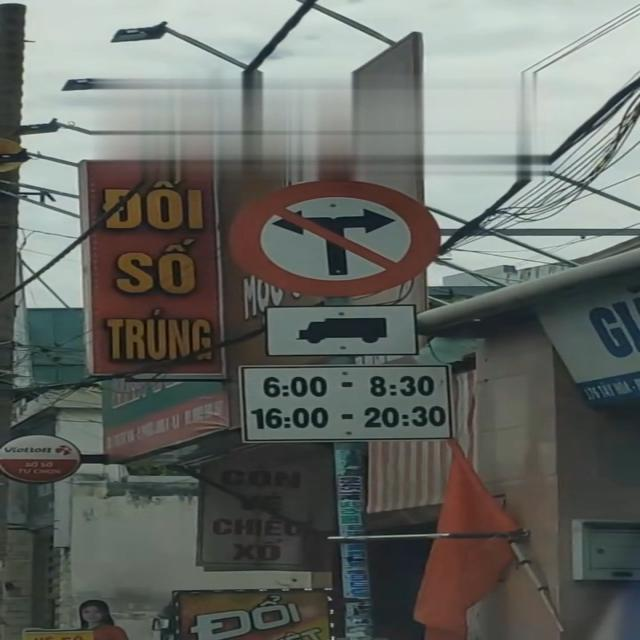137-cam-re-trai-va-re-phai: (231, 180, 443, 296)
